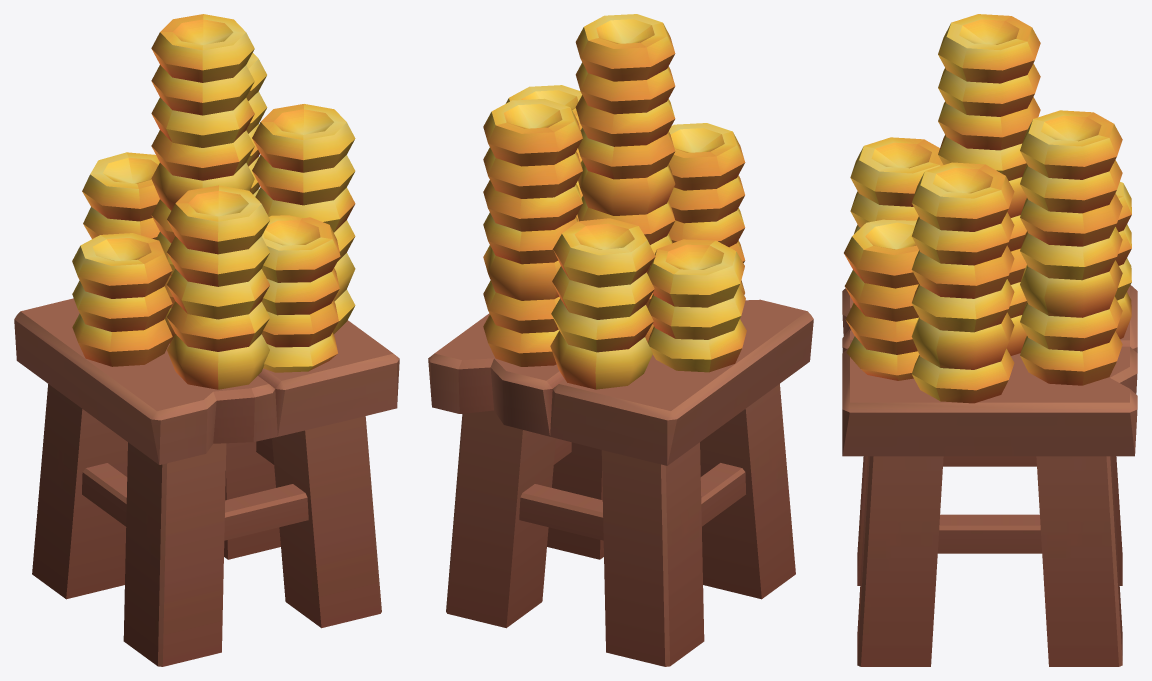
Rendered from table-small-decorated-b-gltf.glb.
The picture shows the model from 3 angles, left to right: view 1: azimuth 30°, elevation 25°; view 2: azimuth 150°, elevation 25°; view 3: azimuth 270°, elevation 25°; orthographic projection. The views are drawn at different scales.
Visible parts, largest first — view 1: table_small_decorated_B; view 2: table_small_decorated_B; view 3: table_small_decorated_B.
Boxes of the visible parts, x1=… form: table_small_decorated_B: x1=14, y1=14, x2=399, y2=666; table_small_decorated_B: x1=428, y1=14, x2=813, y2=666; table_small_decorated_B: x1=842, y1=14, x2=1137, y2=666.
Bounding box in the file's own units: 1.01 × 2.16 × 1.
Materials: 1 (1 with a texture image).
